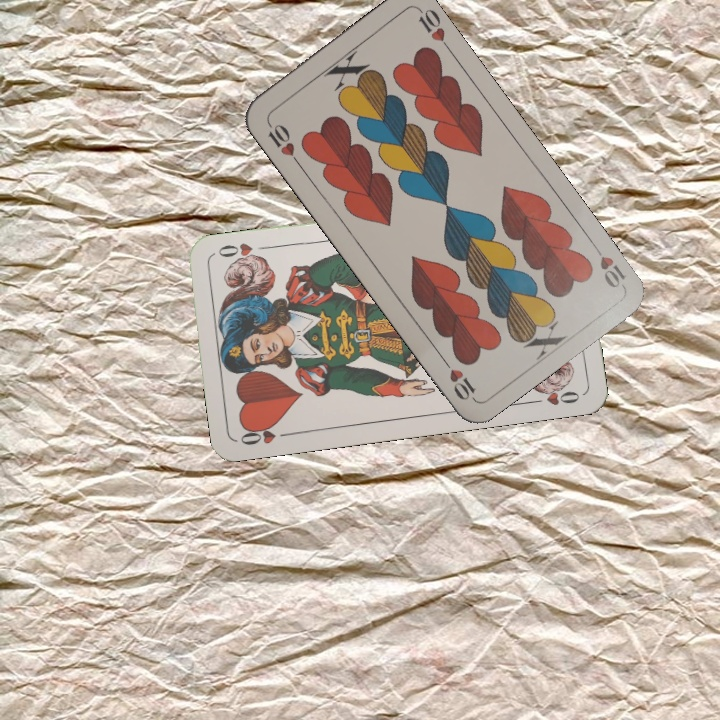H10: (587, 238, 629, 291), (262, 117, 303, 168)
HO: (236, 420, 294, 448)
